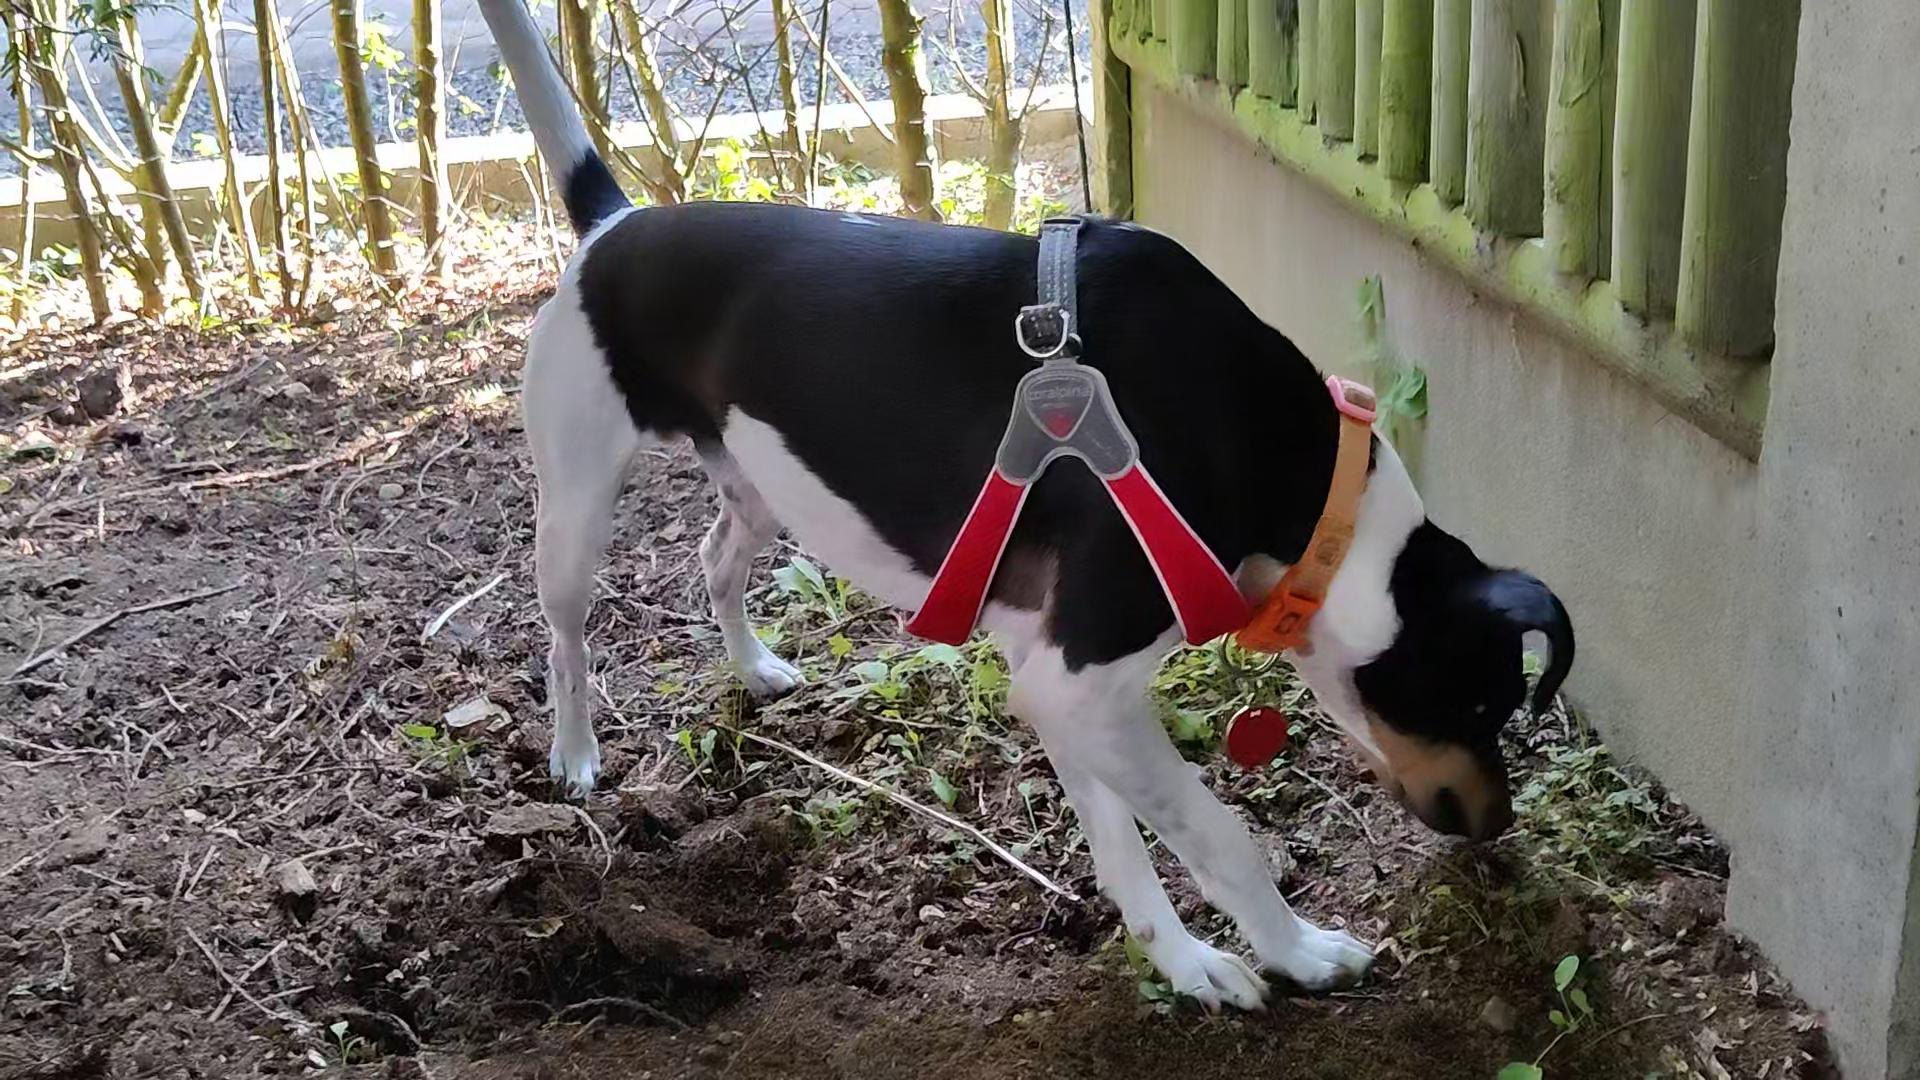Dog: (447, 0, 1604, 1029)
